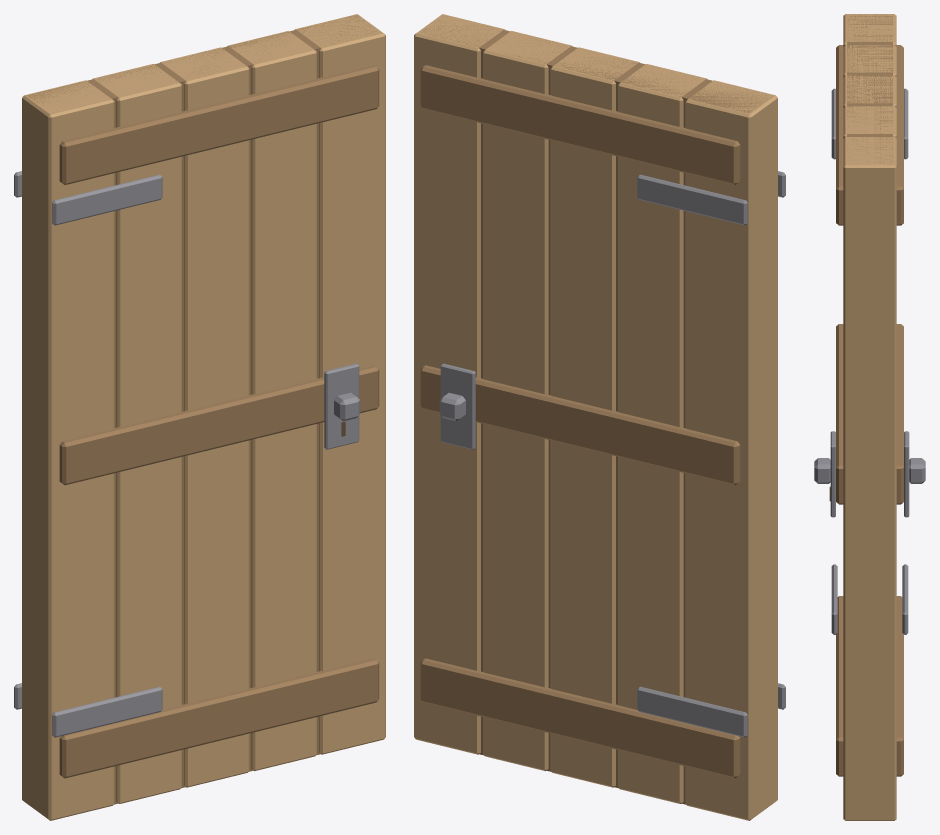
The model's file is door.gltf.
3 views of the same model, side by side, from view 1: azimuth 30°, elevation 25°; view 2: azimuth 150°, elevation 25°; view 3: azimuth 270°, elevation 25° (orthographic). The views are drawn at different scales.
Parts seen in each view (by area): view 1: Door_Mesh; view 2: Door_Mesh; view 3: Door_Mesh.
Part boxes in pixels (x1,y1,x2,y2): Door_Mesh: (14,14,385,820); Door_Mesh: (414,14,785,820); Door_Mesh: (814,14,925,820).
Bounding box in the file's own units: 1 × 2 × 0.3075.
